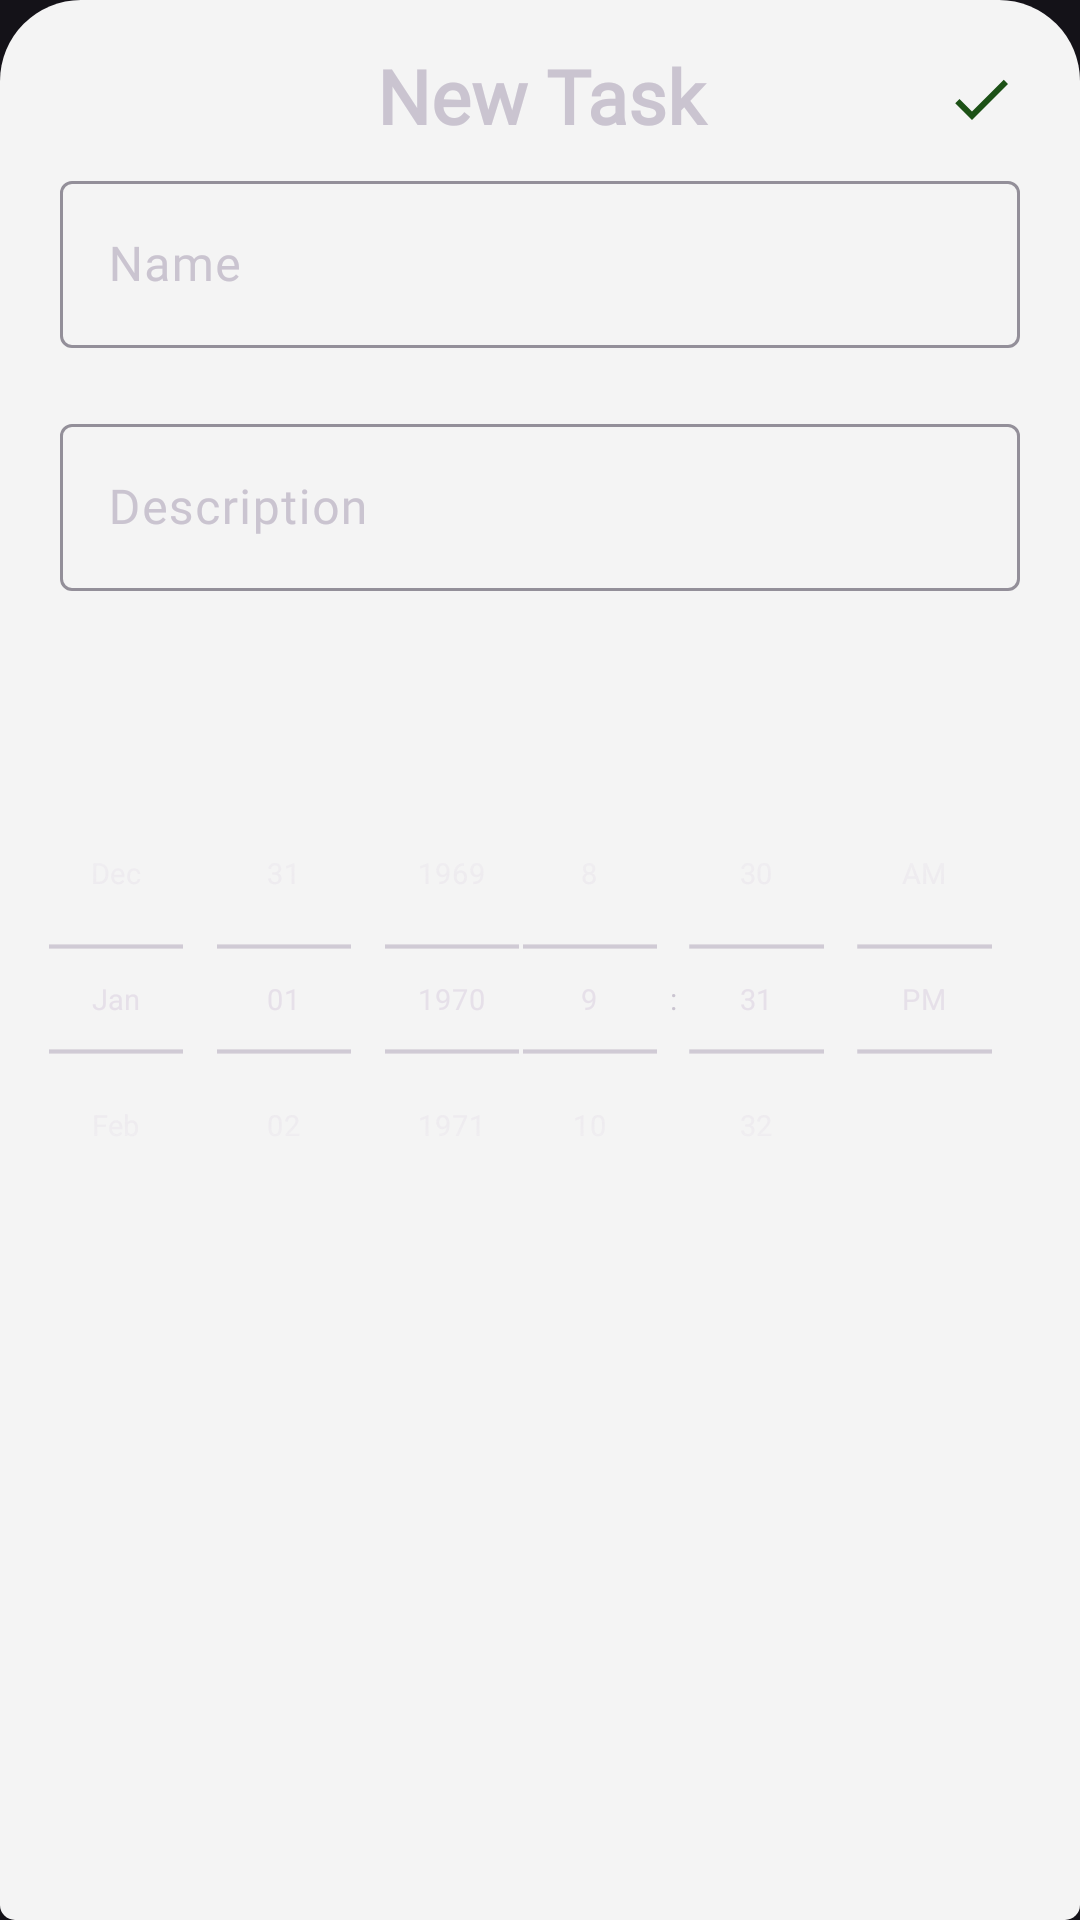

Named icons in this screenshot (1080×1920) and their centers, (x=x, y=y):
done: (x=981, y=100)
